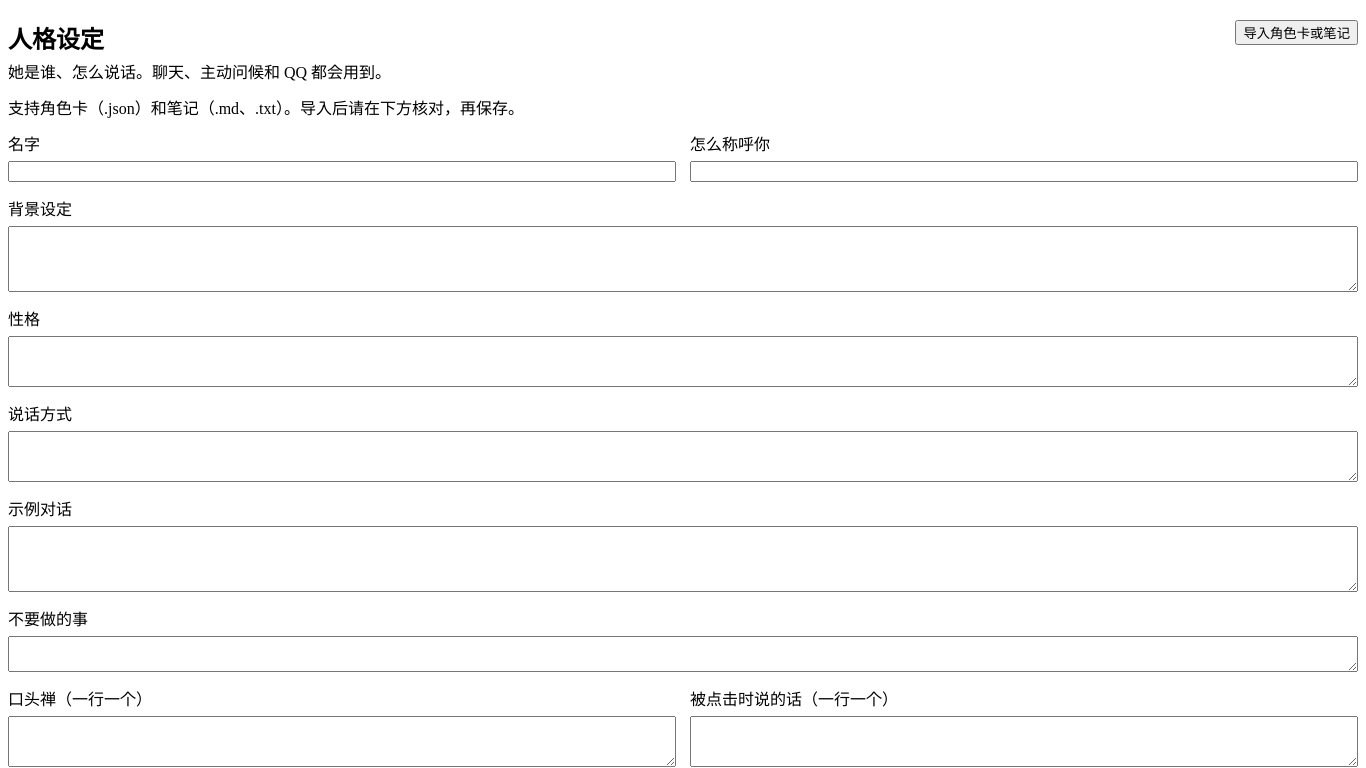
Test: says so when the character saved but the sidebar name did not
Type "小伙伴" into the field labelled "名字" at (342, 172), box [8,161,676,182]
(page scrolled)
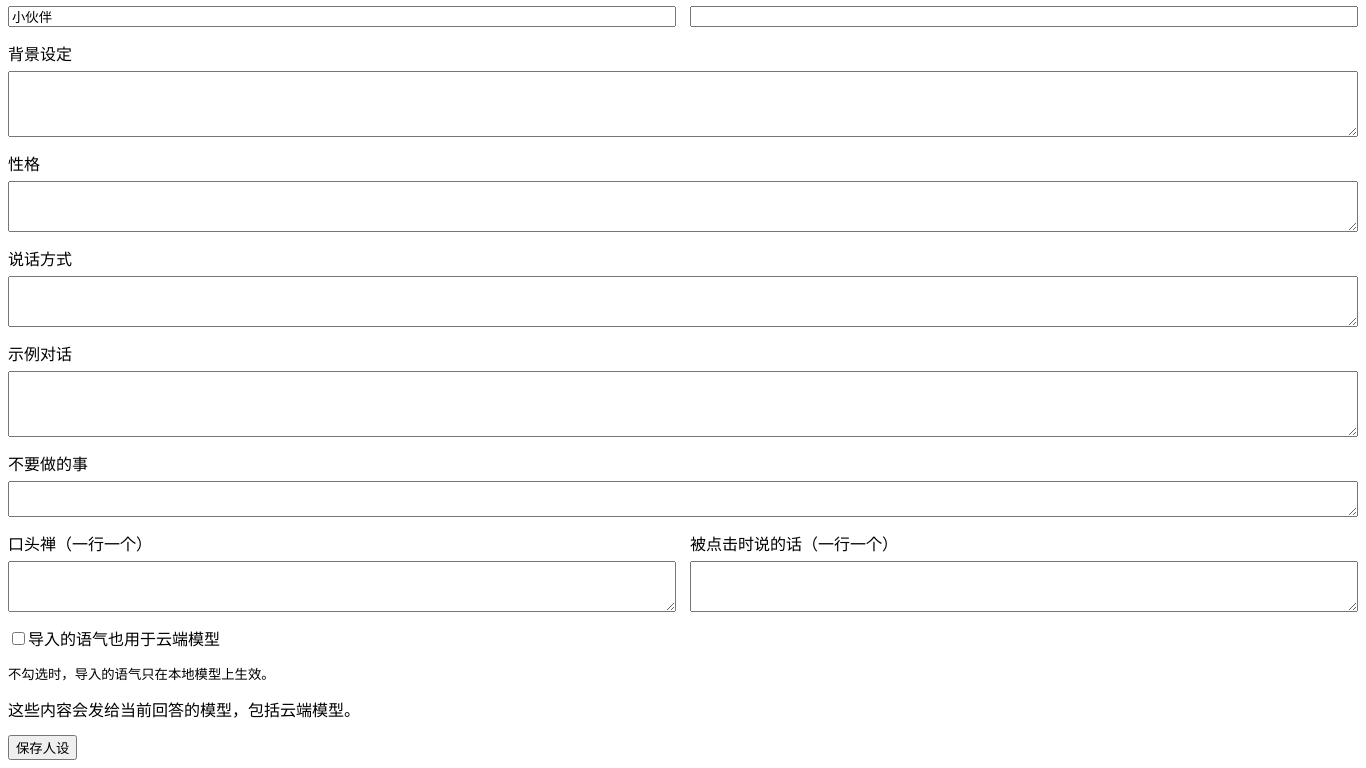
Click the button "保存人设" at (43, 748), box [8,735,77,760]
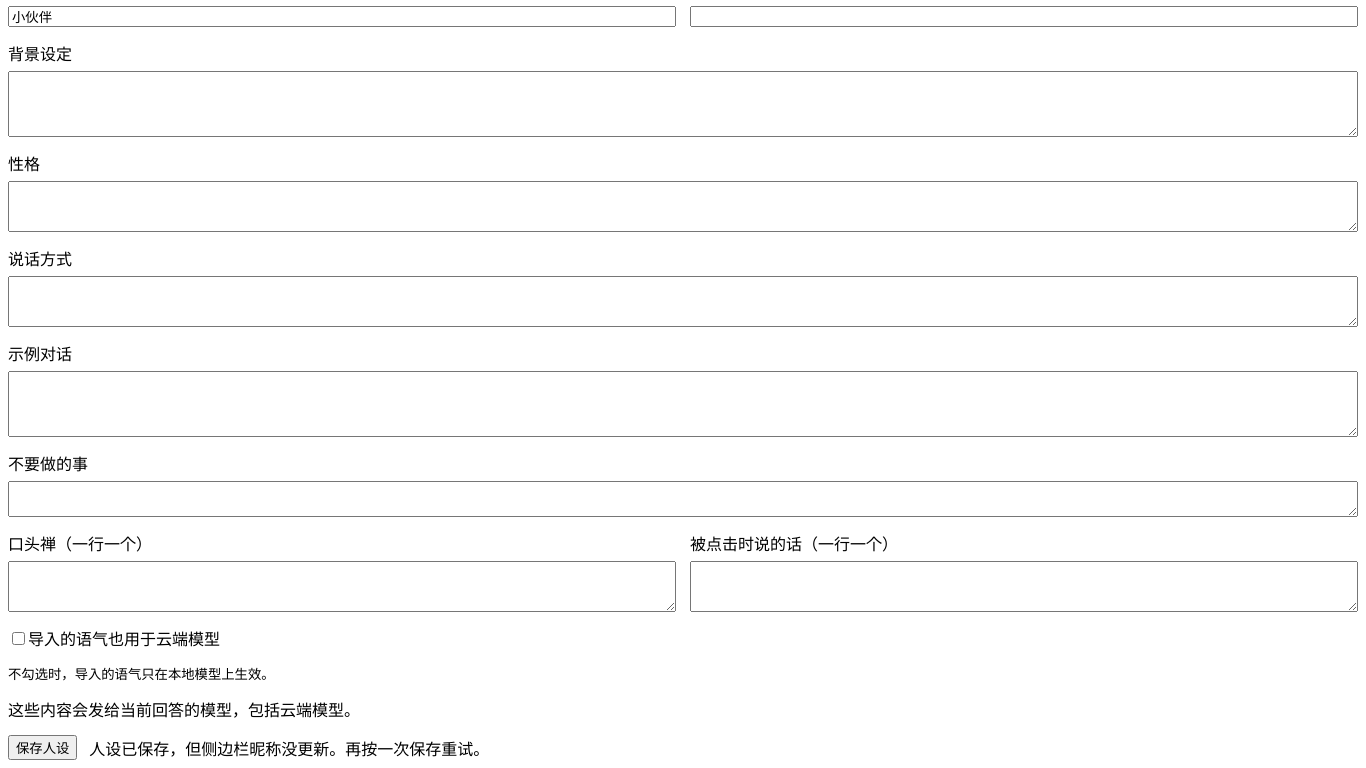
Expected: the message shows "侧边栏昵称没更新", [89,740,489,758]
